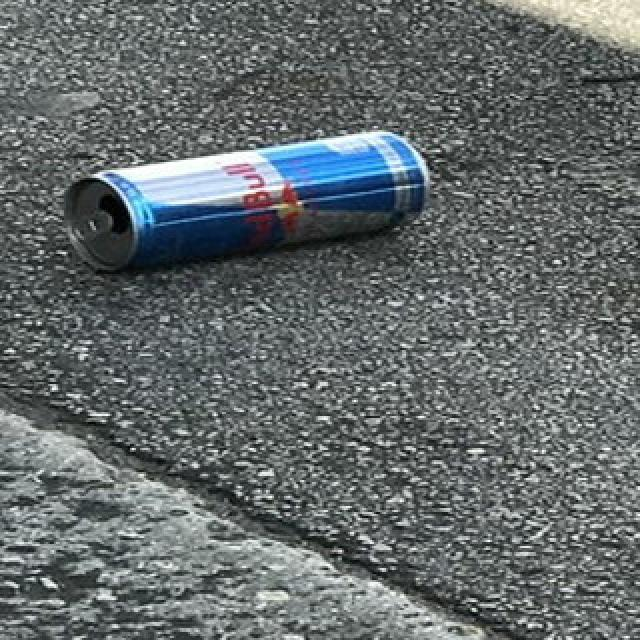can: (59, 128, 433, 276)
